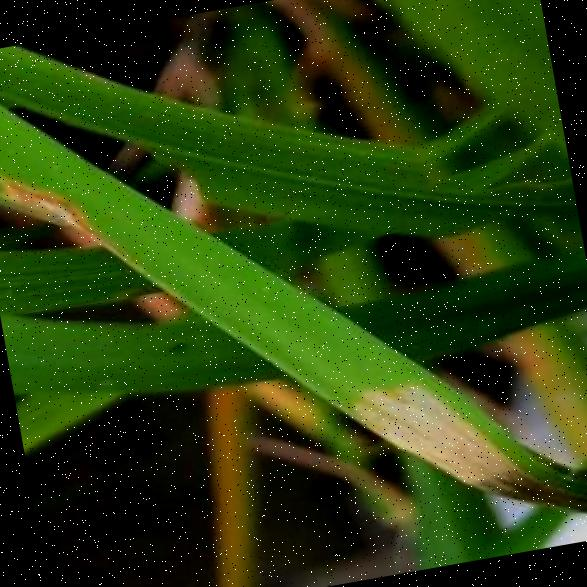Leaf_smut: (0, 140, 106, 254)
